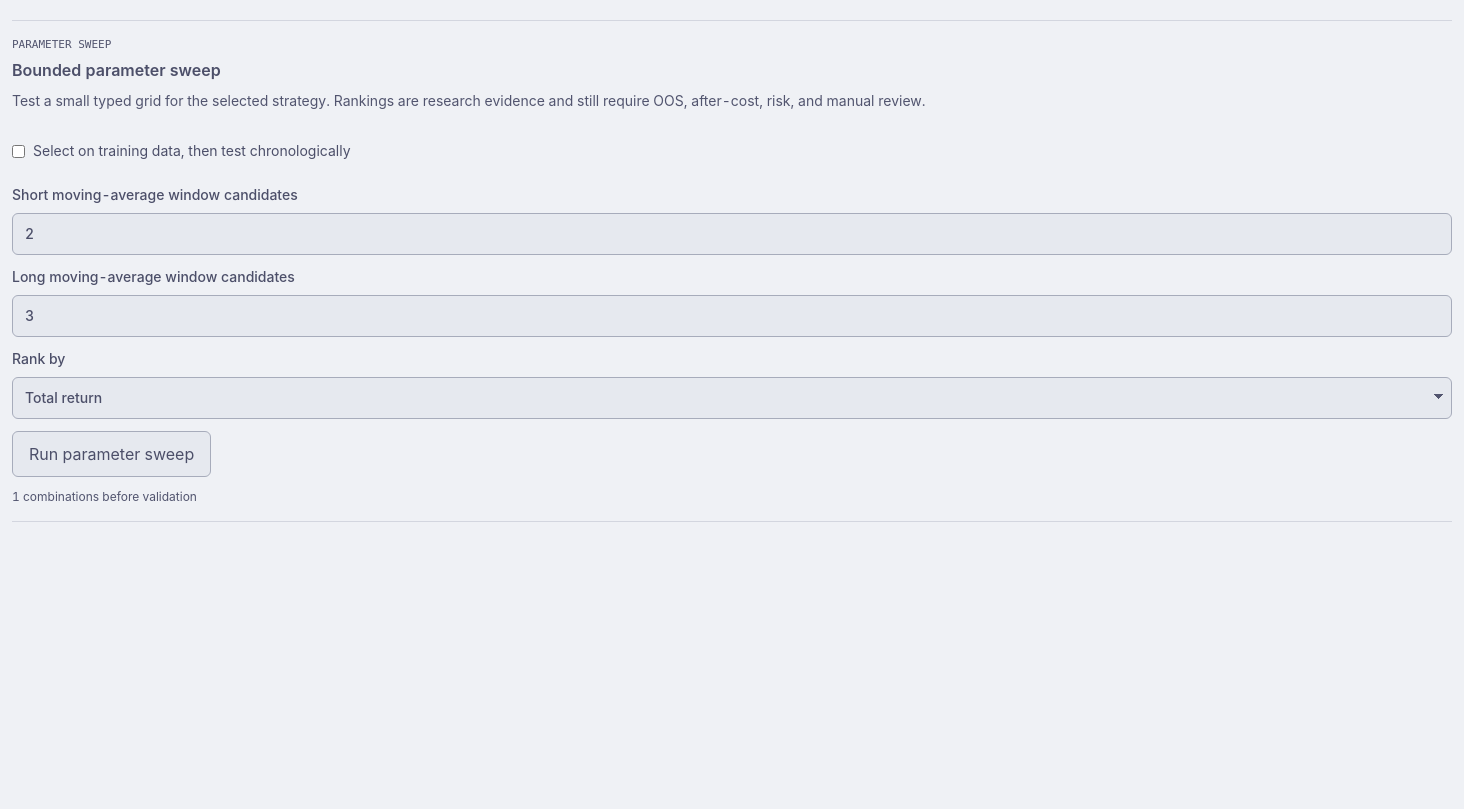
Test: ranks training candidates and reads the selected later test report without mixing its metrics into ranking
Click the checkbox.
click(18, 151)  # box [12,144,25,158]
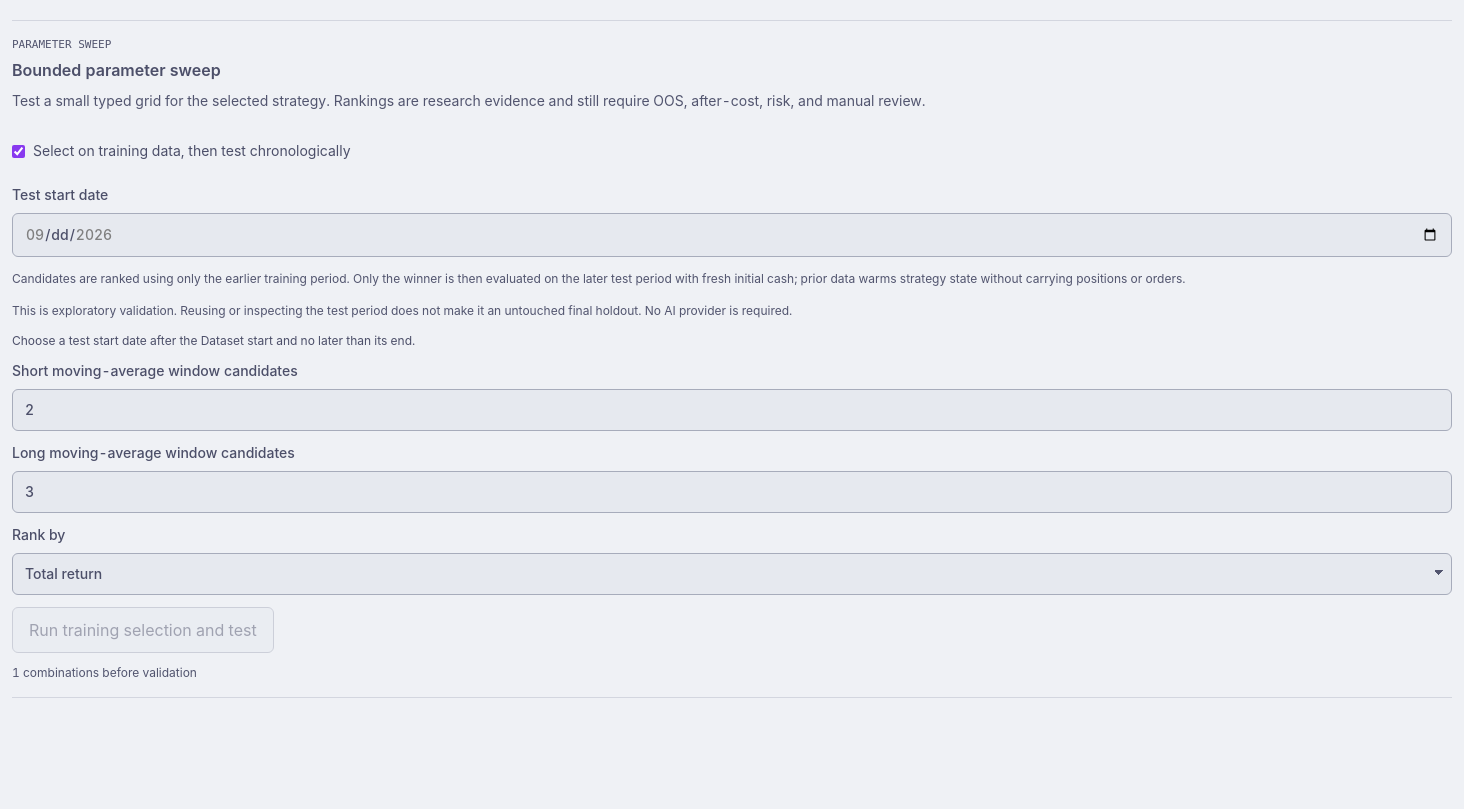
Result: the button "Run training selection and test" is disabled at [12,607,274,653]
Result: the date field labelled "Test start date" is empty
Type "2026-09-01" into the date field labelled "Test start date".
click(732, 235); type("2026-09-01")  # box [12,213,1452,257]
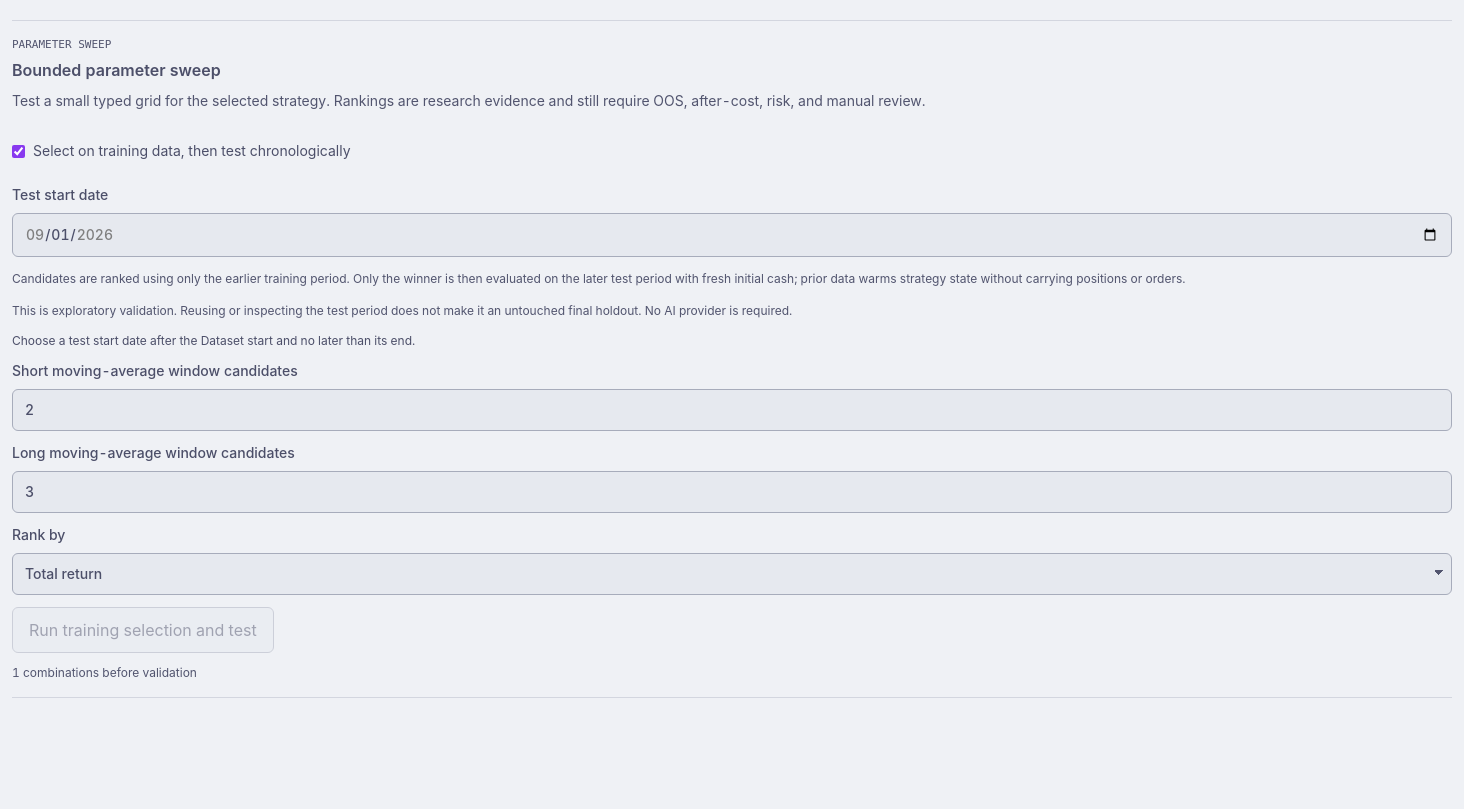
Result: the button "Run training selection and test" is disabled at [12,607,274,653]
Type "2026-10-01" into the date field labelled "Test start date".
click(732, 235); type("2026-10-01")  # box [12,213,1452,257]
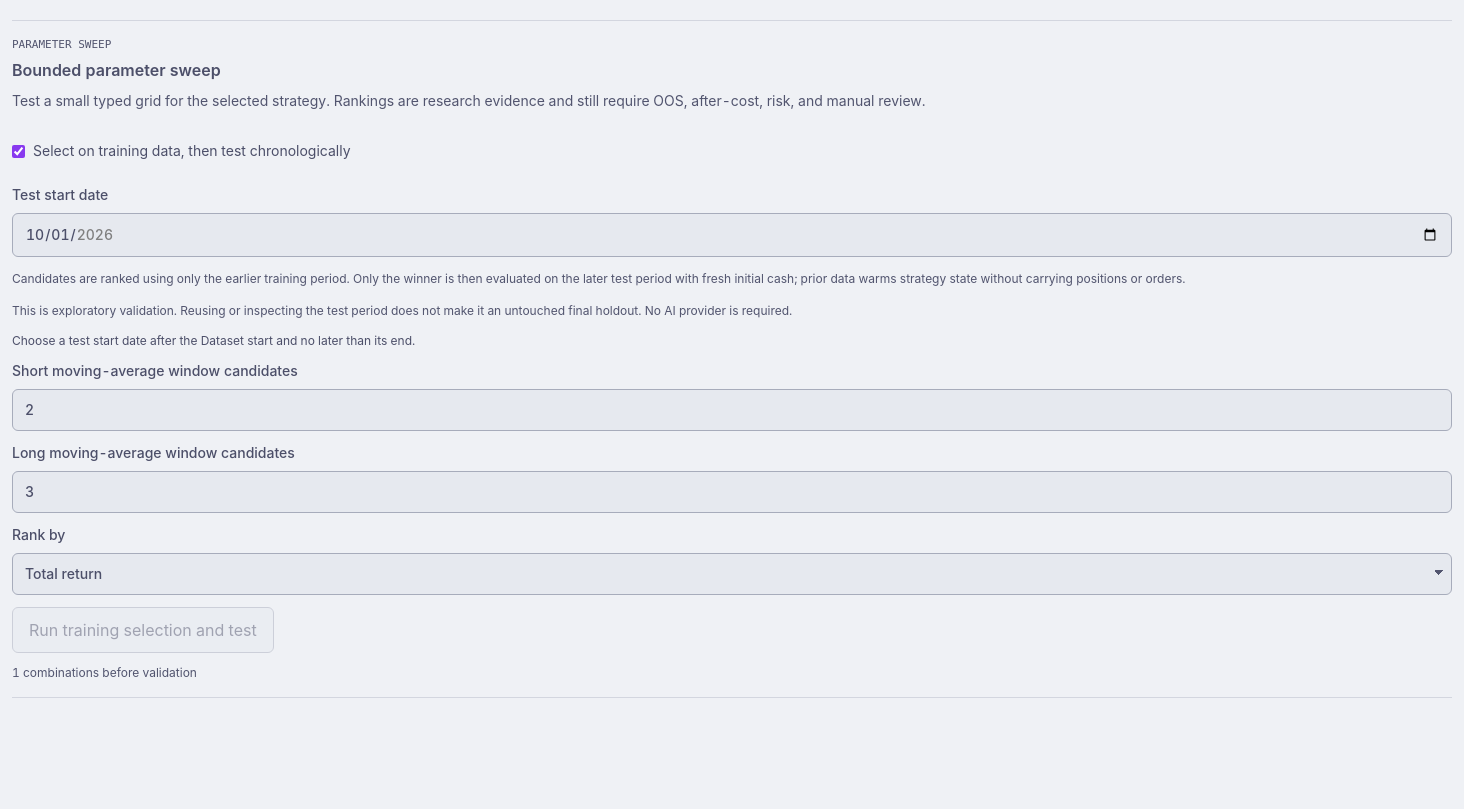
Result: the button "Run training selection and test" is disabled at [12,607,274,653]
Type "2026-09-15" into the date field labelled "Test start date".
click(732, 235); type("2026-09-15")  # box [12,213,1452,257]
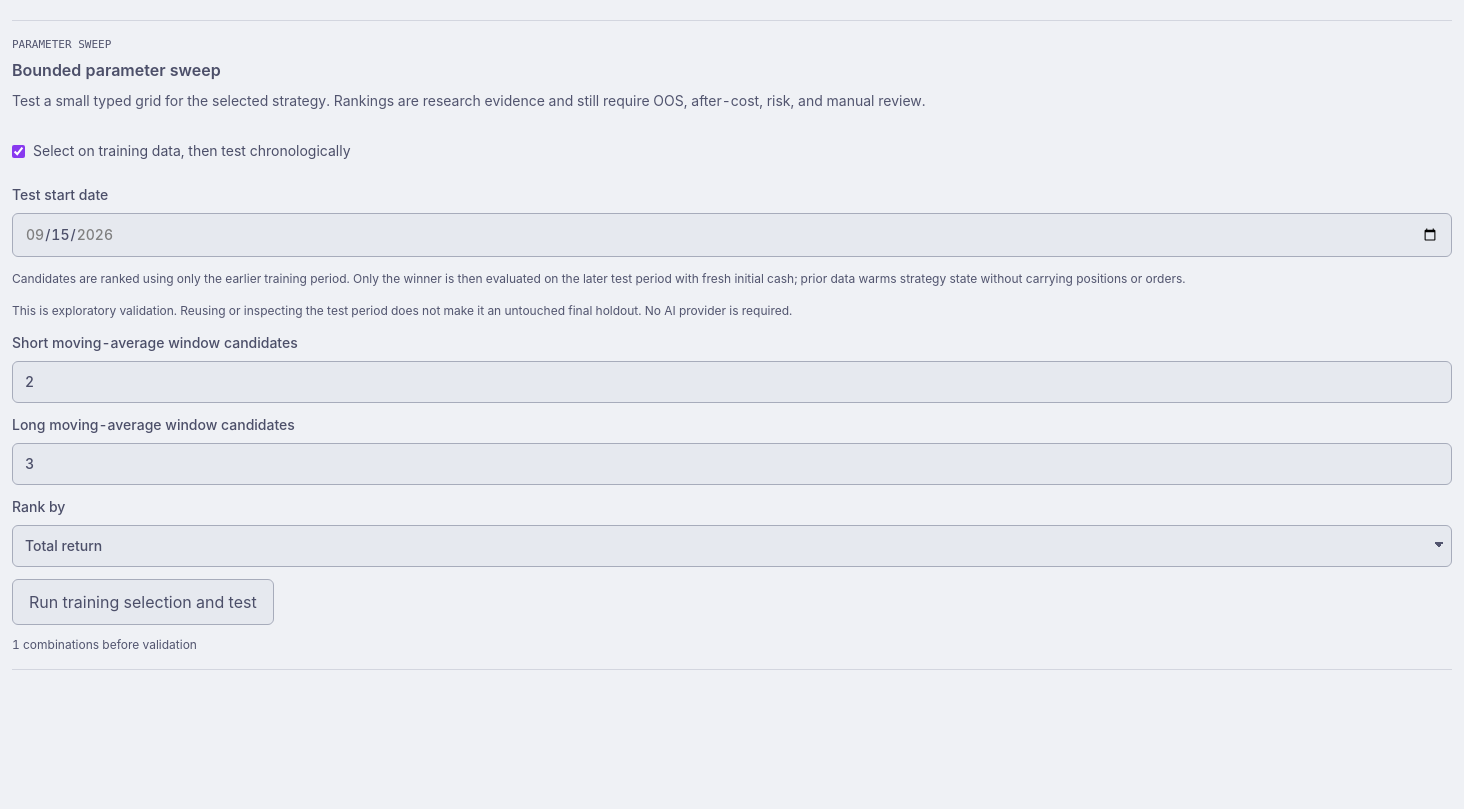
Click the button "Run training selection and test".
click(143, 602)  # box [12,579,274,625]
(page scrolled)
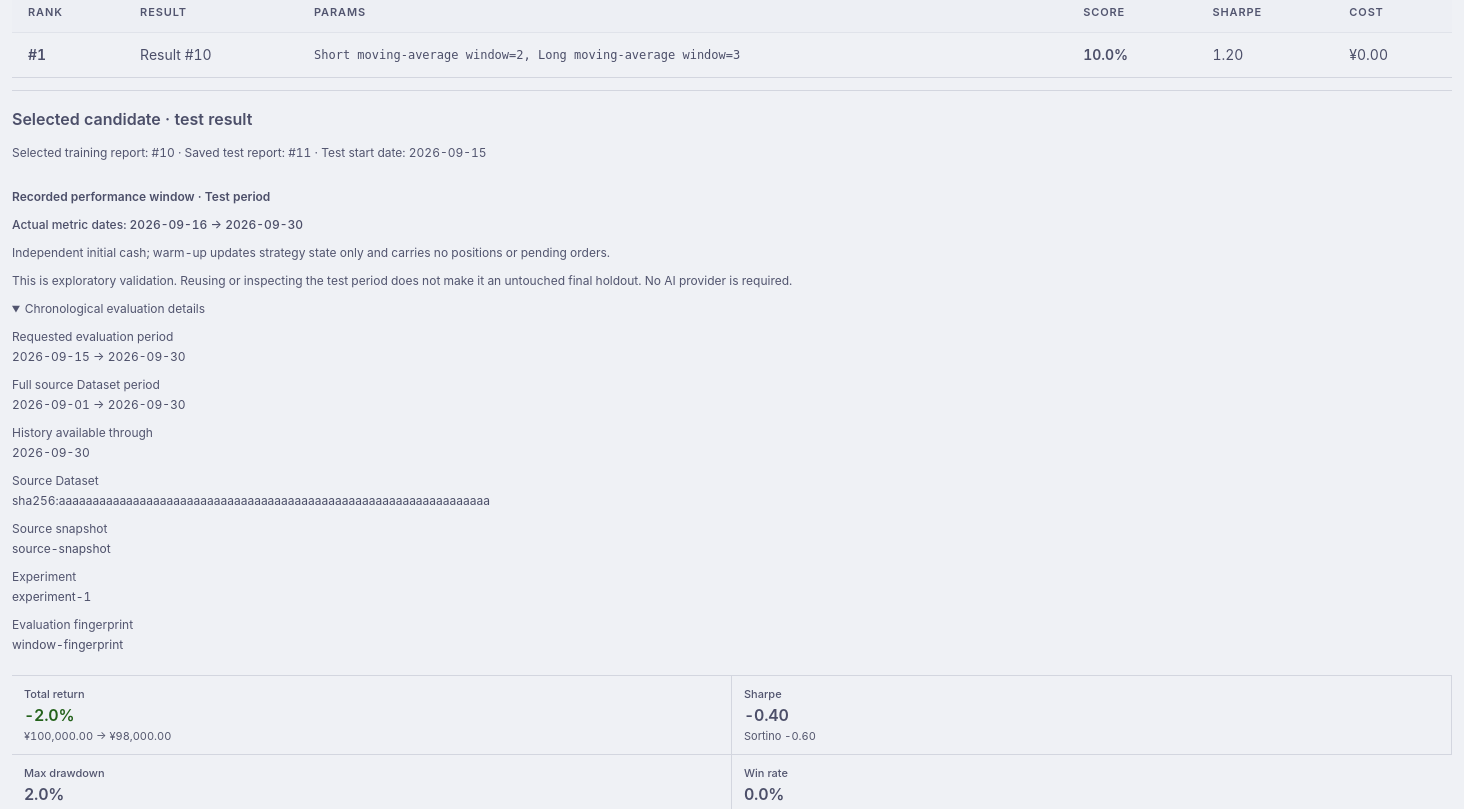
Result: the text "-2.0%" is shown at [24,705,74,725]
Result: the table shows "10.0%" at [1083,46,1128,63]
Result: the element "Selected candidate · test result" shows "carries no positions or pending orders" at [12,245,610,260]
